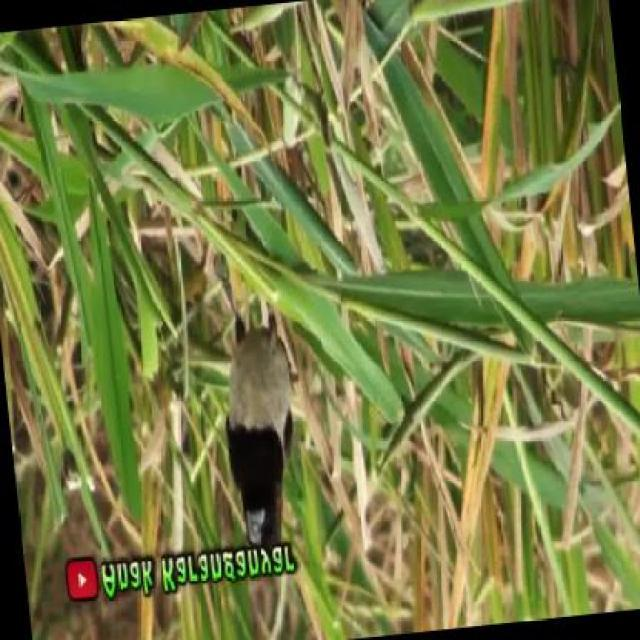Bird: (199, 321, 305, 559)
